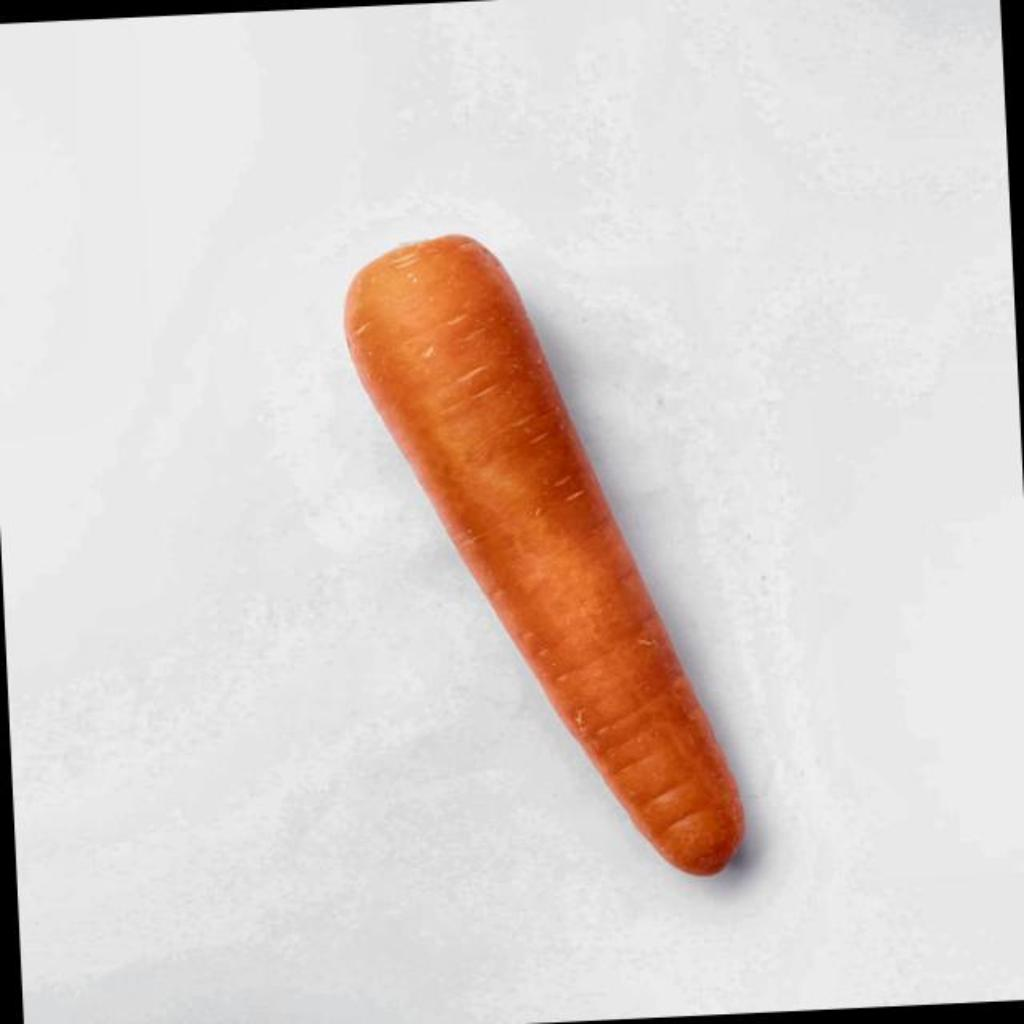carrot: (346, 236, 742, 875)
